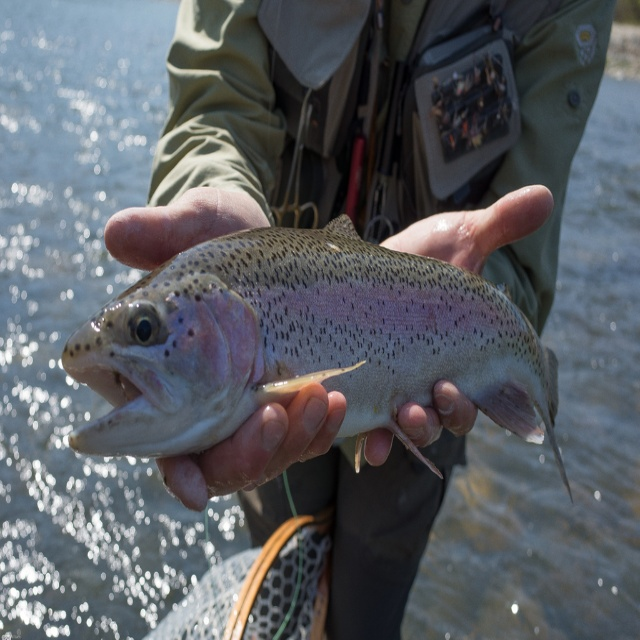Fish: (62, 214, 575, 505)
